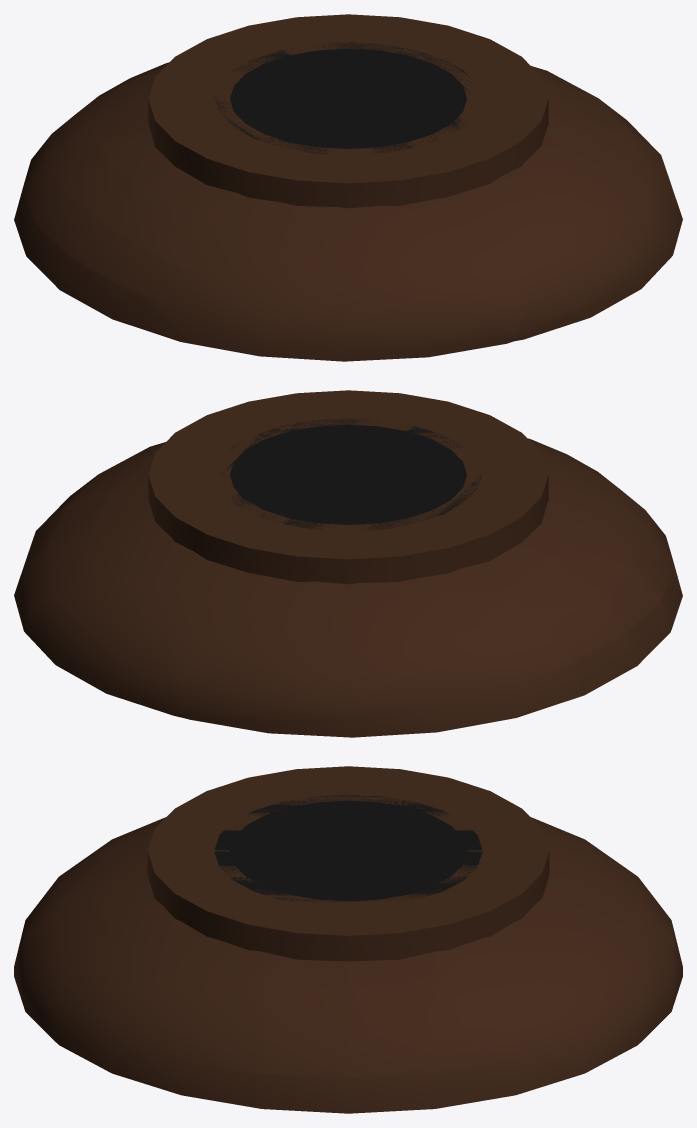
Rendered from anthill.model.fbx.
3 renders of one model, top to bottom at view 1: azimuth 30°, elevation 25°; view 2: azimuth 150°, elevation 25°; view 3: azimuth 270°, elevation 25°, orthographic.
Parts seen in each view (by area): view 1: sphere_dome_90, cylinder_hollow_93, sphere_dome_94; view 2: sphere_dome_90, cylinder_hollow_93, sphere_dome_94; view 3: sphere_dome_90, cylinder_hollow_93, sphere_dome_94.
Boxes of the visible parts, x1,y1,x2,y2 form: sphere_dome_90: [14, 62, 682, 361]; cylinder_hollow_93: [148, 14, 548, 208]; sphere_dome_94: [215, 42, 471, 153]; sphere_dome_90: [14, 438, 682, 737]; cylinder_hollow_93: [148, 390, 548, 584]; sphere_dome_94: [221, 418, 481, 530]; sphere_dome_90: [14, 817, 682, 1113]; cylinder_hollow_93: [147, 766, 549, 961]; sphere_dome_94: [214, 794, 482, 902].
Bounding box in the file's own units: 10 × 2.5 × 10.
